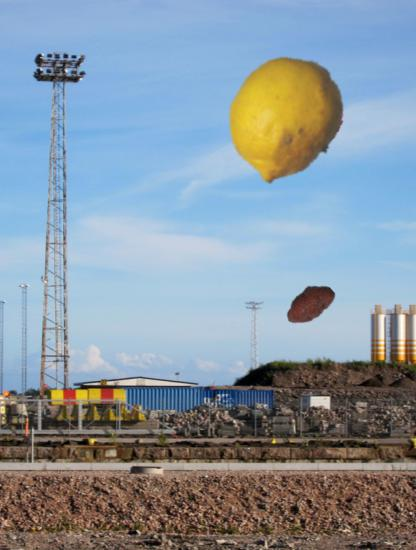Lemon: (219, 52, 352, 185)
Lychee: (273, 84, 347, 158)
Strawberry: (283, 278, 336, 331)
